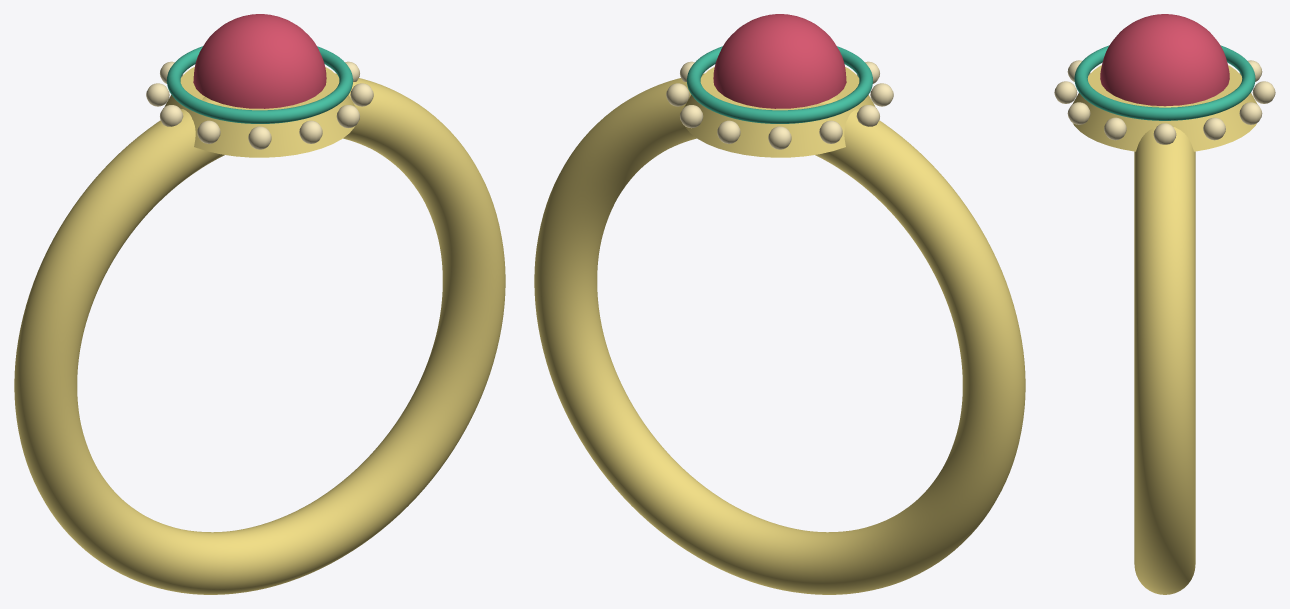
File: meenakari-heritage-ring.glb
3 renders of one model, left to right at view 1: azimuth 30°, elevation 25°; view 2: azimuth 150°, elevation 25°; view 3: azimuth 270°, elevation 25°, orthographic. The views are drawn at different scales.
Visible parts, largest first — view 1: meenakari-heritage-ring; view 2: meenakari-heritage-ring; view 3: meenakari-heritage-ring.
Boxes of the visible parts, left/top/right/bottom form: meenakari-heritage-ring: left=14, top=14, right=505, bottom=594; meenakari-heritage-ring: left=534, top=14, right=1025, bottom=594; meenakari-heritage-ring: left=1054, top=14, right=1275, bottom=594.
Bounding box in the file's own units: 3.04 × 3.4 × 1.24.
